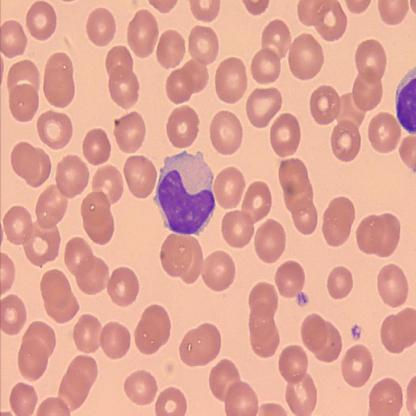Atypical lymphocyte: (150, 149, 218, 239)
